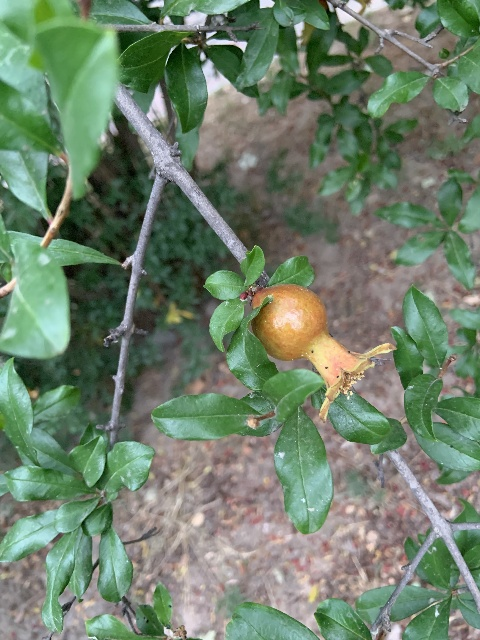early-fruit: (249, 284, 393, 420)
